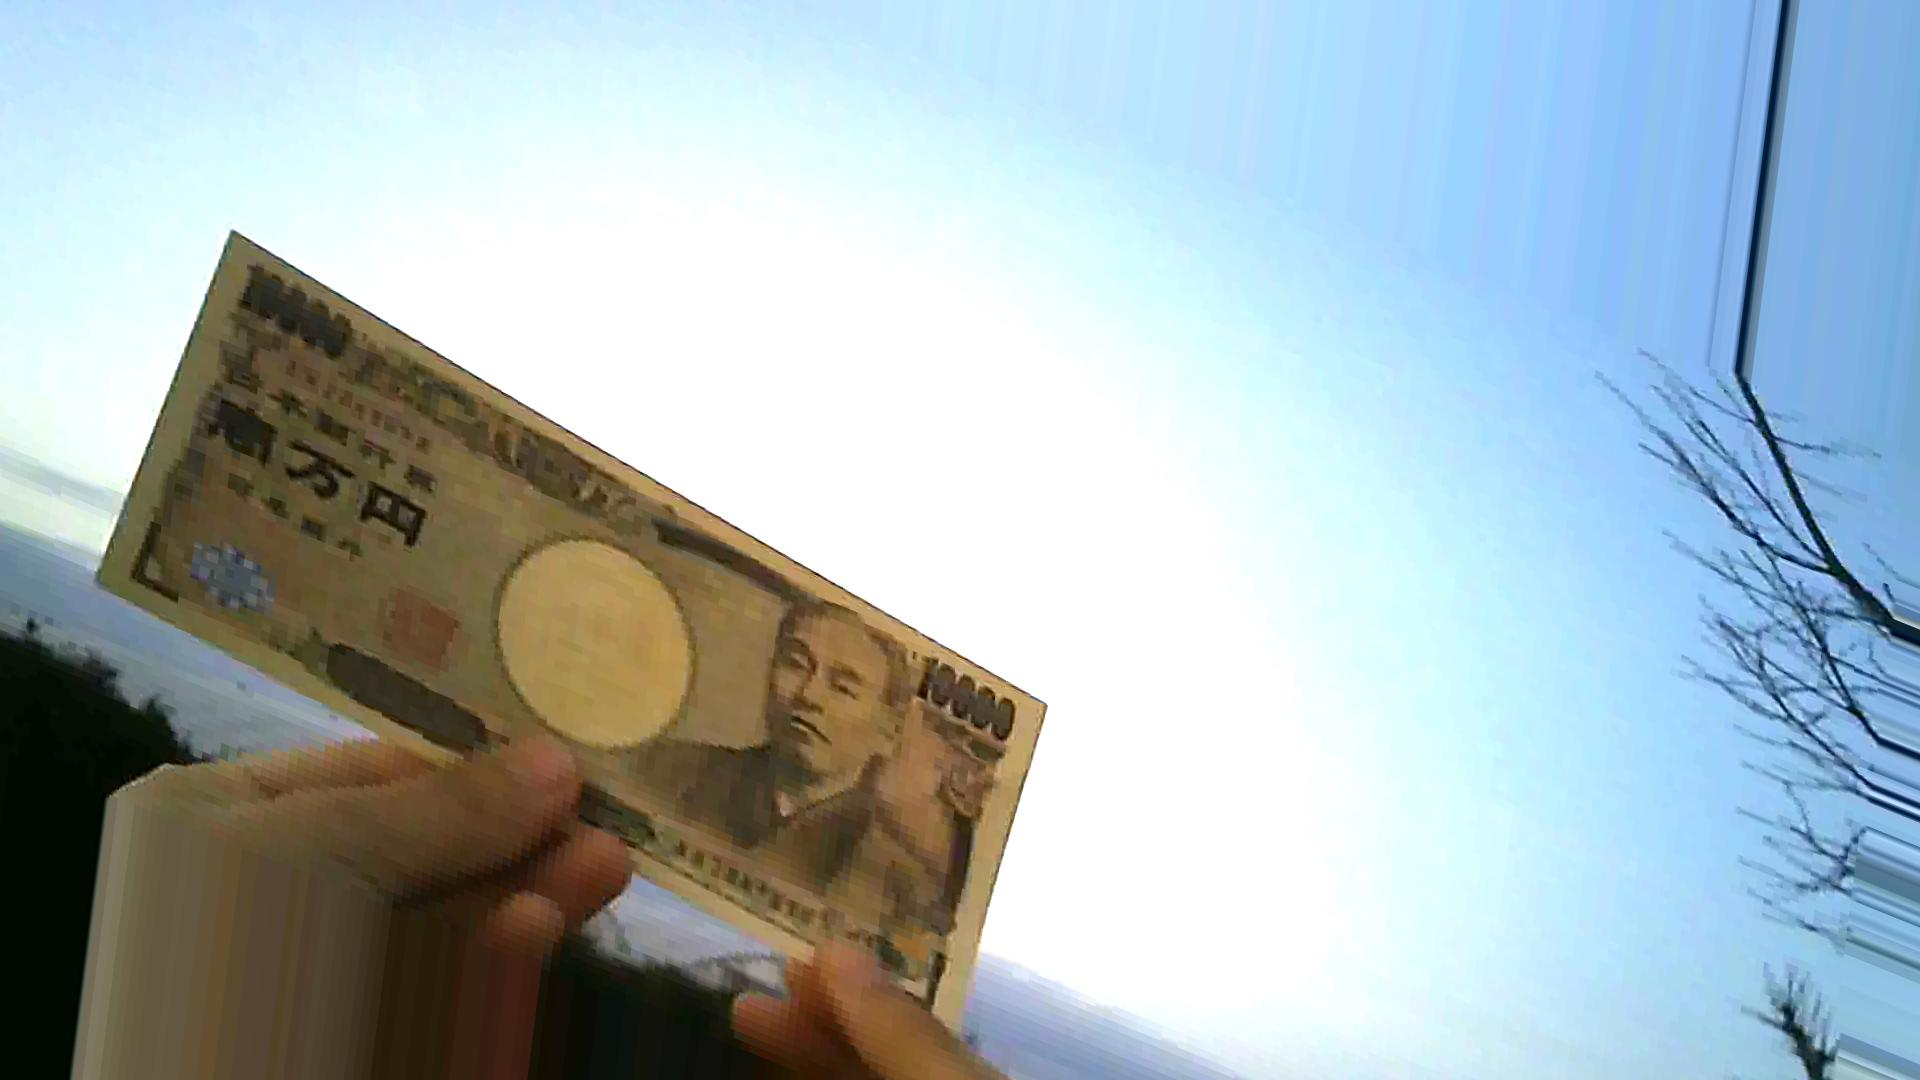10,000 Yen: (69, 216, 1040, 1018)
